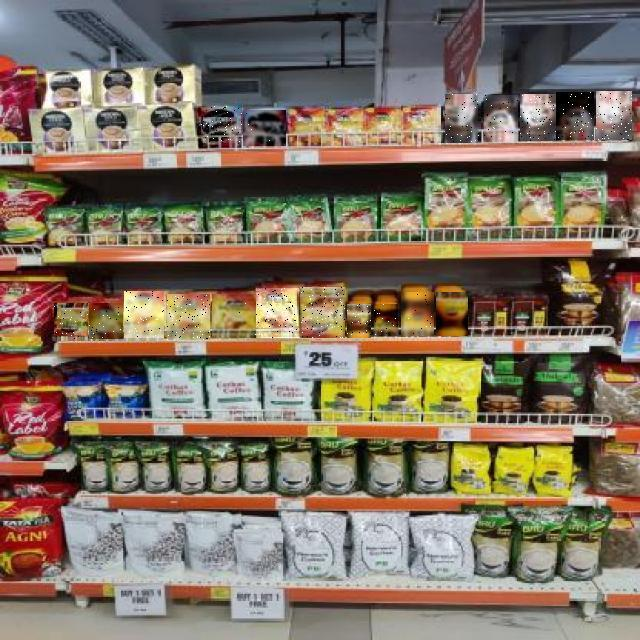Coffee: (300, 287, 345, 338), (256, 288, 299, 338), (167, 294, 210, 340), (212, 294, 256, 338), (125, 292, 165, 340), (198, 107, 242, 149), (557, 92, 595, 140), (596, 91, 632, 140), (521, 94, 557, 141), (446, 94, 480, 143), (484, 95, 518, 142), (243, 111, 286, 147), (401, 292, 434, 336), (437, 293, 469, 337), (89, 303, 123, 339), (55, 304, 89, 340), (347, 304, 371, 338), (374, 304, 398, 336)
